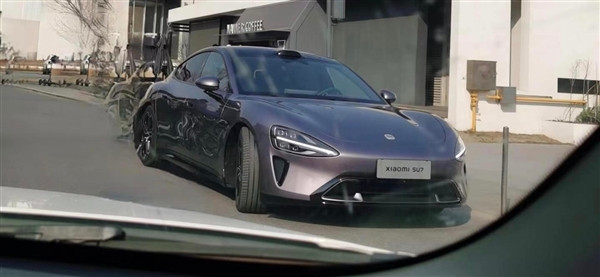su7: (133, 48, 467, 215)
